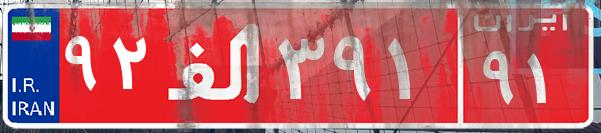1: (385, 28, 445, 110), (525, 38, 570, 115)
2: (110, 28, 158, 105)
3: (273, 28, 330, 110)
9: (330, 28, 385, 110), (57, 26, 110, 107), (475, 38, 525, 113)
الف: (158, 15, 273, 115)
